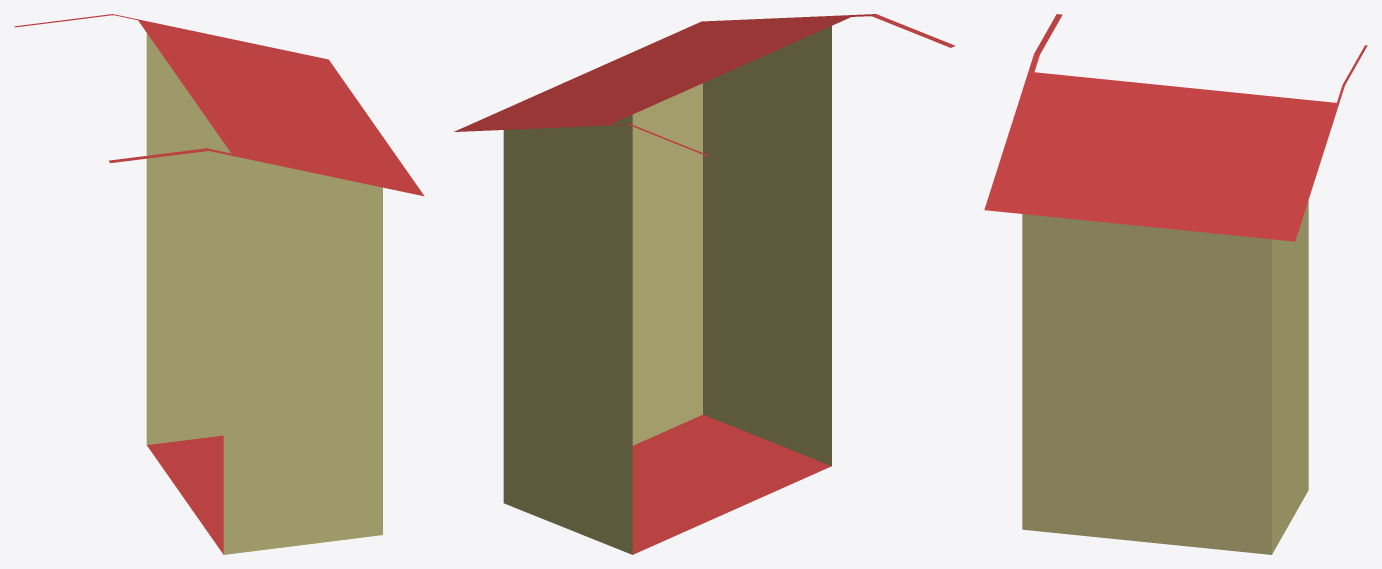
The picture shows the model from 3 angles, left to right: view 1: azimuth 30°, elevation 25°; view 2: azimuth 150°, elevation 25°; view 3: azimuth 270°, elevation 25°; orthographic projection. The views are drawn at different scales.
Bounding box in the file's own units: 5.95 × 6.06 × 6.94.
